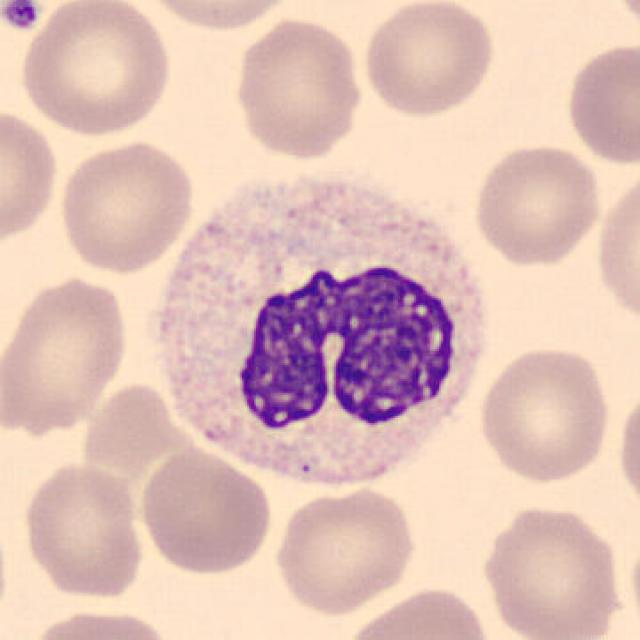Neutrophil: (142, 171, 503, 513)
Platelets: (0, 0, 42, 33)
RBC: (14, 0, 176, 139), (0, 271, 133, 435), (474, 499, 628, 640), (229, 12, 368, 164), (270, 481, 420, 619), (54, 136, 198, 275), (475, 340, 613, 485), (18, 458, 148, 602), (135, 444, 276, 576), (470, 139, 604, 268), (359, 0, 500, 120), (560, 39, 640, 167), (0, 102, 62, 252), (339, 583, 496, 640), (592, 166, 638, 331), (23, 604, 176, 640), (135, 0, 300, 33), (613, 383, 640, 520), (606, 0, 640, 42)
